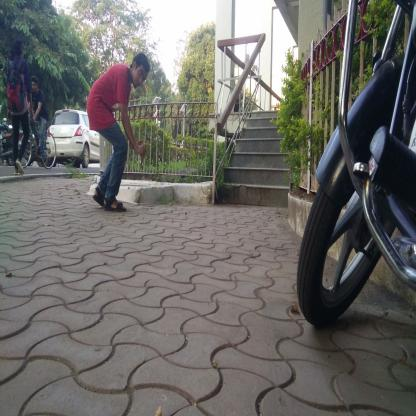stairs: (222, 116, 273, 211)
